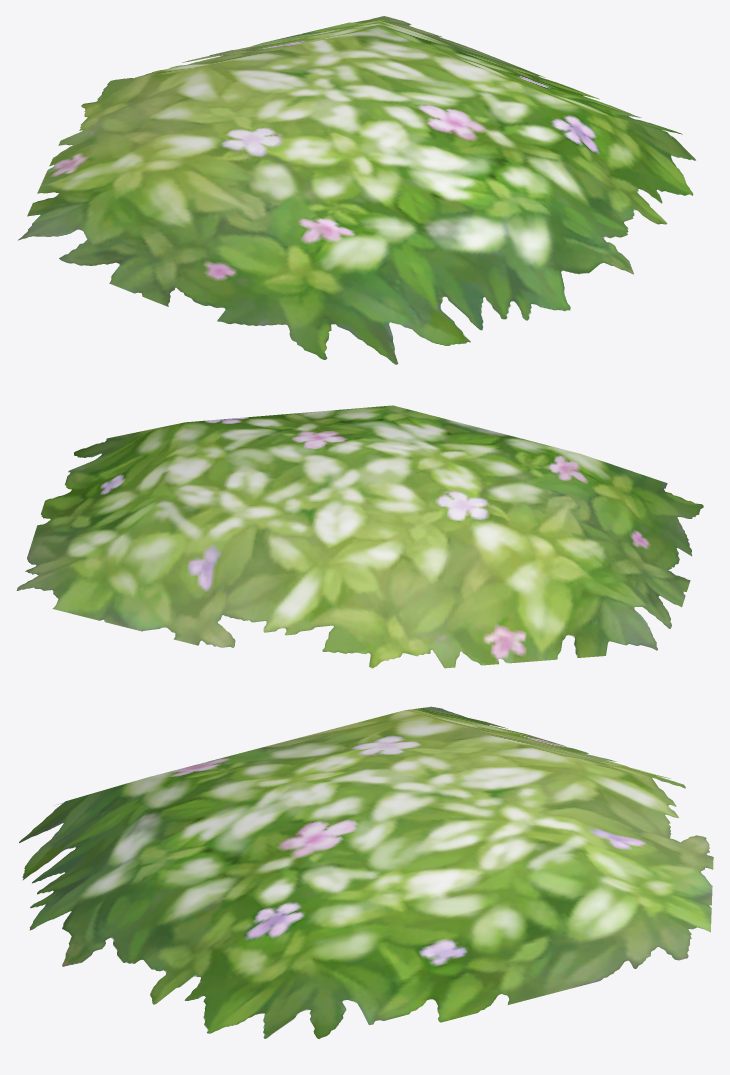
File: SM_flower_01.fbx
3 views of the same model, one above another, from view 1: azimuth 30°, elevation 25°; view 2: azimuth 150°, elevation 25°; view 3: azimuth 270°, elevation 25° (orthographic). The views are drawn at different scales.
Parts seen in each view (by area): view 1: SM_flower_01; view 2: SM_flower_01; view 3: SM_flower_01.
Boxes of the visible parts, bbox=[...] form: SM_flower_01: bbox=[18, 16, 695, 364]; SM_flower_01: bbox=[16, 405, 703, 668]; SM_flower_01: bbox=[19, 706, 713, 1038].
Bounding box in the file's own units: 1.88 × 0.3156 × 1.62.
